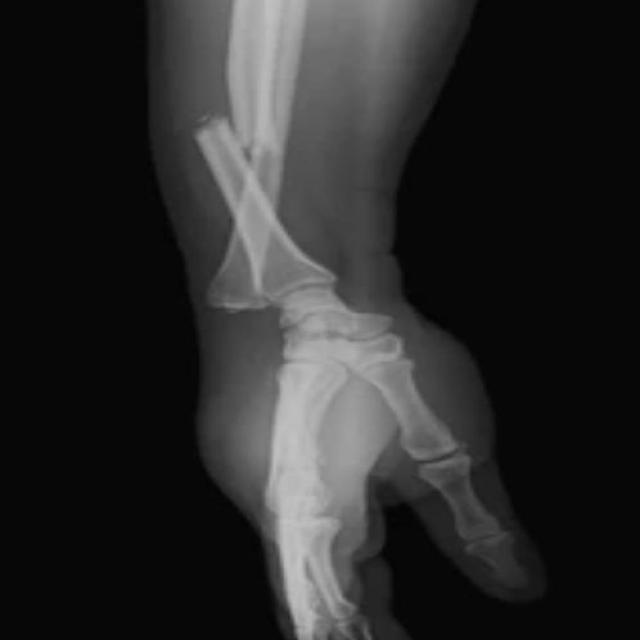bone: (180, 102, 284, 163), (186, 292, 296, 349)
